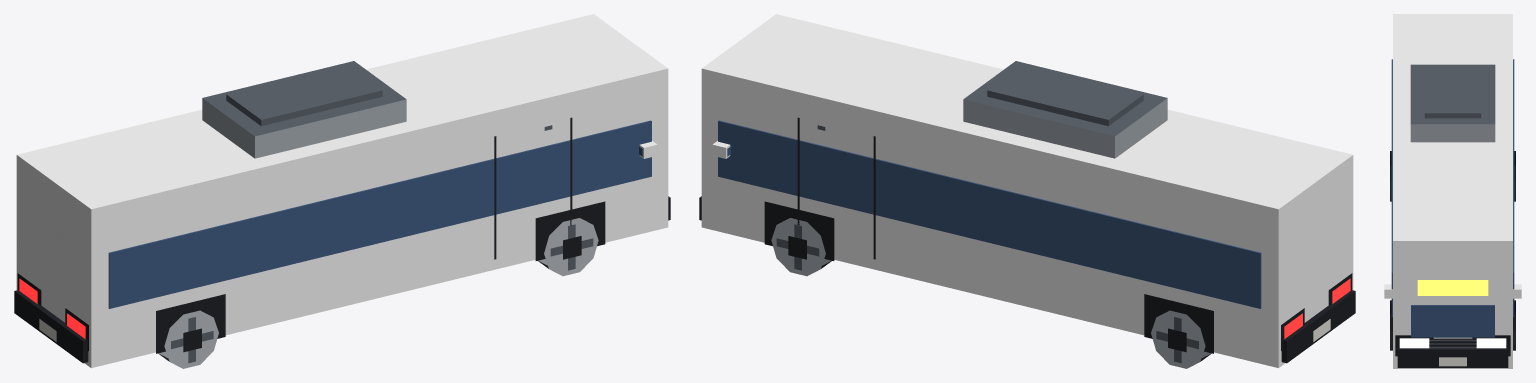
File: bus_city.glb
The picture shows the model from 3 angles, left to right: view 1: azimuth 30°, elevation 25°; view 2: azimuth 150°, elevation 25°; view 3: azimuth 270°, elevation 25°; orthographic projection. The views are drawn at different scales.
Parts seen in each view (by area): view 1: bus_city; view 2: bus_city; view 3: bus_city.
Part boxes in pixels (x1,y1,x2,y2): bus_city: (14, 14, 670, 368); bus_city: (699, 14, 1355, 368); bus_city: (1384, 14, 1521, 368).
Bounding box in the file's own units: 0.7756 × 0.263 × 0.194.
